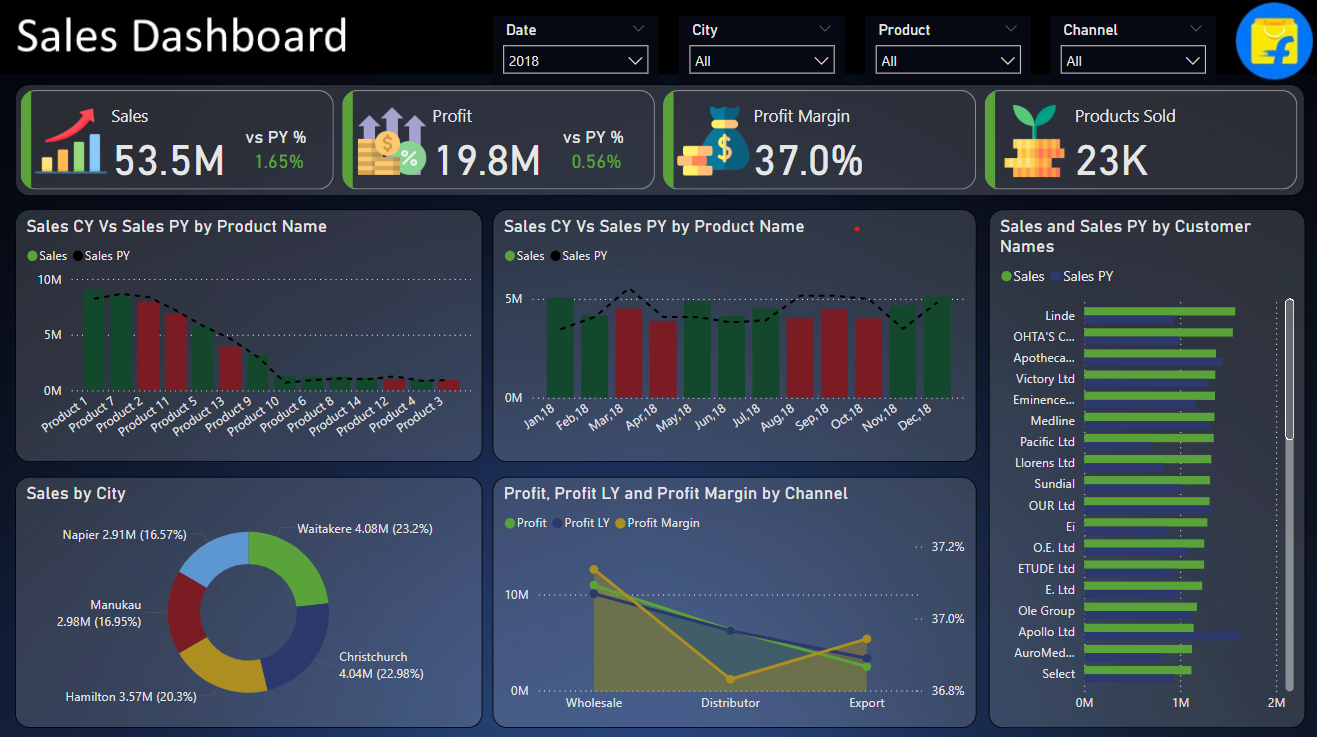

The page's visual inventory and layout, read from the dashboard file:
{"tool":"powerbi","page":{"name":"Sales Dashboard","canvas":[1280,720],"ordinal":0},"visuals":[{"type":"slicer","fields":{"Values":["DateTable.Year","DateTable.Month Short Name Plus Year"]},"box":[480.4,17.3,160.1,66.4],"z":0},{"type":"slicer","fields":{"Values":["Regions_Table.City"]},"box":[659.8,17.3,160.1,66.4],"z":1000},{"type":"slicer","fields":{"Values":["Products_Data.Product Name"]},"box":[839.2,17.3,160.1,66.4],"z":2000},{"type":"slicer","fields":{"Values":["Sales_Data.Channel"]},"box":[1018.6,17.3,160.1,66.4],"z":3000},{"type":"lineClusteredColumnComboChart","title":"Sales CY Vs Sales PY by Product Name","fields":{"Category":["Products_Data.Product Name"],"Y":["Measure Table.Sales"],"Y2":["Measure Table.Sales PY"]},"box":[19.3,203.9,451.2,243.7],"z":4000},{"type":"lineClusteredColumnComboChart","title":"Sales CY Vs Sales PY by Product Name","fields":{"Y":["Measure Table.Sales"],"Y2":["Measure Table.Sales PY"],"Category":["DateTable.Month Short Name Plus Year"]},"box":[480.2,203.9,466.9,243.7],"z":5000},{"type":"donutChart","fields":{"Category":["Regions_Table.City"],"Y":["Measure Table.Sales"]},"box":[19.3,462.1,451.2,242.5],"z":6000},{"type":"areaChart","fields":{"Category":["Sales_Data.Channel"],"Y":["Measure Table.Profit","Measure Table.Profit LY"],"Y2":["Measure Table.Profit Margin"]},"box":[480.2,462.1,466.9,242.5],"z":7000},{"type":"clusteredBarChart","fields":{"Y":["Measure Table.Sales","Measure Table.Sales PY"],"Category":["Customer_Data.Customer Names"]},"box":[959.1,203.9,305.2,500.7],"z":8000},{"type":"cardVisual","fields":{"Data":["Measure Table.Sales","Measure Table.Profit","Measure Table.Profit Margin","Measure Table.Products Sold"]},"box":[18.8,83.7,1245.1,108.2],"z":9000},{"type":"card","title":"vs PY %","fields":{"Values":["Measure Table.Sales vs PY %"]},"box":[236.6,124.1,75,49.1],"z":10000},{"type":"card","title":"vs PY %","fields":{"Values":["Measure Table.Profit vs LY %"]},"box":[542.5,124.1,75,49.1],"z":11000}]}

Visuals, with their boxes in screenshot pixels (x1, y1, x2, y2), scaled from the page's 1280x720 canvas onto the 1317x737 screenshot:
slicer - DateTable.Year x DateTable.Month Short Name Plus Year: locate(494, 18, 659, 86)
slicer - Regions_Table.City: locate(679, 18, 844, 86)
slicer - Products_Data.Product Name: locate(863, 18, 1028, 86)
slicer - Sales_Data.Channel: locate(1048, 18, 1213, 86)
"Sales CY Vs Sales PY by Product Name" lineClusteredColumnComboChart: locate(20, 209, 484, 458)
"Sales CY Vs Sales PY by Product Name" lineClusteredColumnComboChart: locate(494, 209, 974, 458)
donutChart - Regions_Table.City x Measure Table.Sales: locate(20, 473, 484, 721)
areaChart - Sales_Data.Channel x Measure Table.Profit: locate(494, 473, 974, 721)
clusteredBarChart - Measure Table.Sales x Measure Table.Sales PY: locate(987, 209, 1301, 721)
cardVisual - Measure Table.Sales x Measure Table.Profit: locate(19, 86, 1300, 196)
"vs PY %" card: locate(243, 127, 321, 177)
"vs PY %" card: locate(558, 127, 635, 177)
